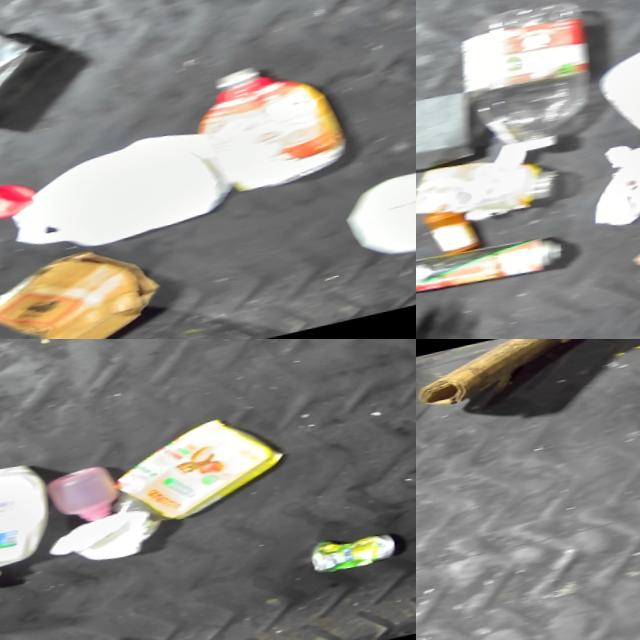can: (416, 228, 565, 312), (301, 533, 395, 585)
milk_jug: (0, 125, 233, 267), (332, 162, 416, 275), (0, 458, 58, 606), (586, 30, 640, 185)
non_white_jug: (101, 411, 288, 538)
plastic_bottle: (447, 0, 603, 166)
